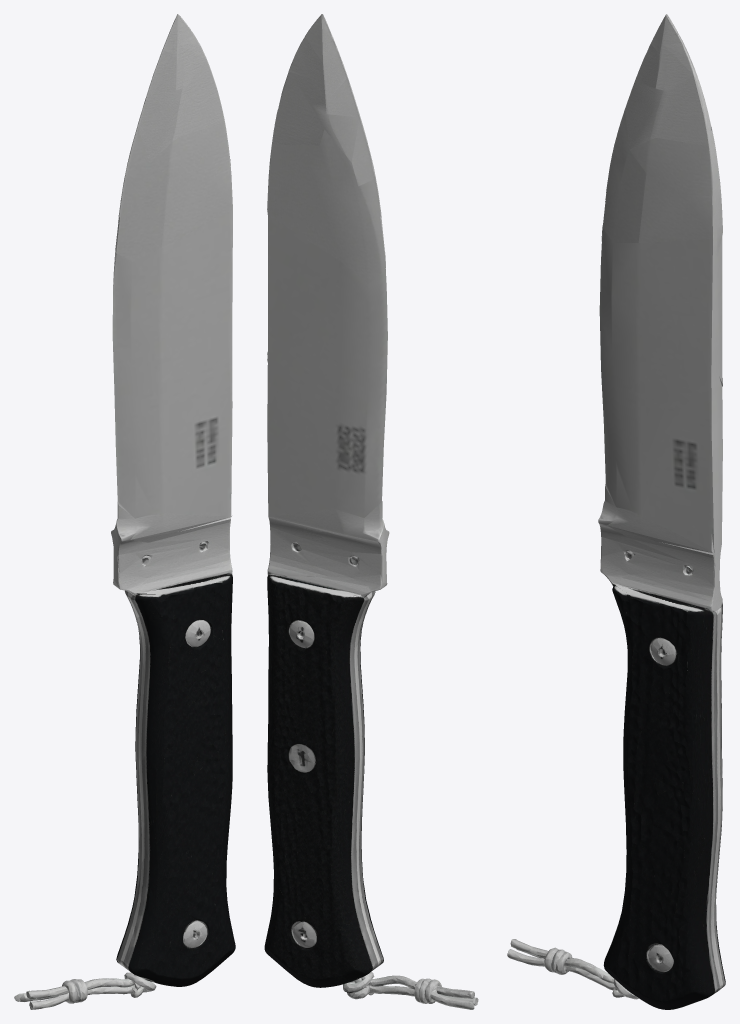
File: knife_real.glb
3 views of the same model, side by side, from view 1: azimuth 30°, elevation 25°; view 2: azimuth 150°, elevation 25°; view 3: azimuth 330°, elevation 25° (orthographic). The views are drawn at different scales.
Visible parts, largest first — view 1: knife_real_0; view 2: knife_real_0; view 3: knife_real_0.
Part boxes in pixels (x1=…): knife_real_0: x1=14, y1=14, x2=235, y2=1009; knife_real_0: x1=264, y1=14, x2=478, y2=1009; knife_real_0: x1=507, y1=14, x2=725, y2=1009.
Size of the model in its own units: 0.084 by 0.37 by 0.0182.
Materials: 1 (1 with a texture image).
